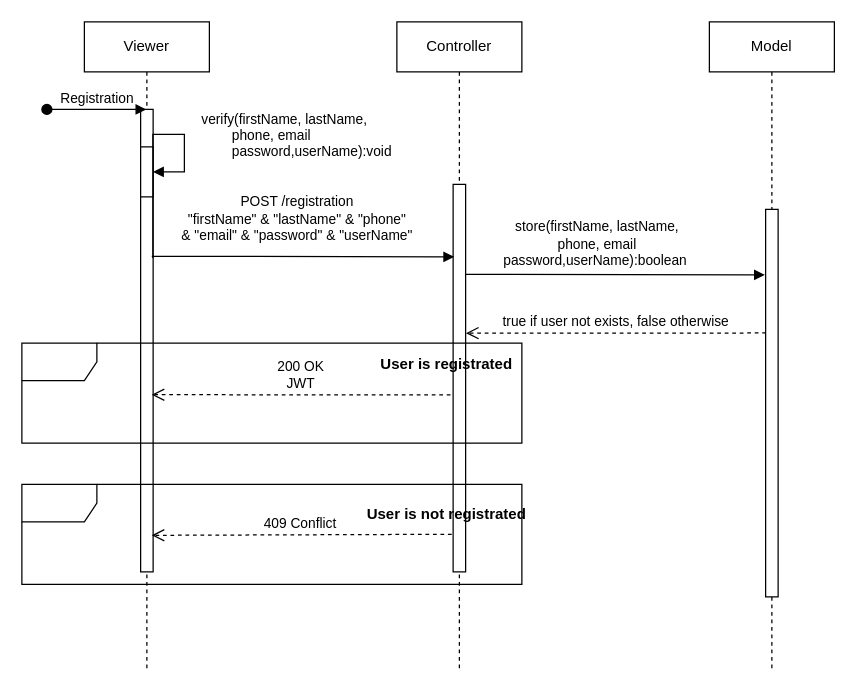
The diagram is 856 pixels wide and 694 high, and some of its shapes have lost their labels. Here are the shapes that lost their labels. From the top down, the box of each, then its label:
(21, 342, 522, 443): Optimal
(21, 483, 522, 584): Alternative
